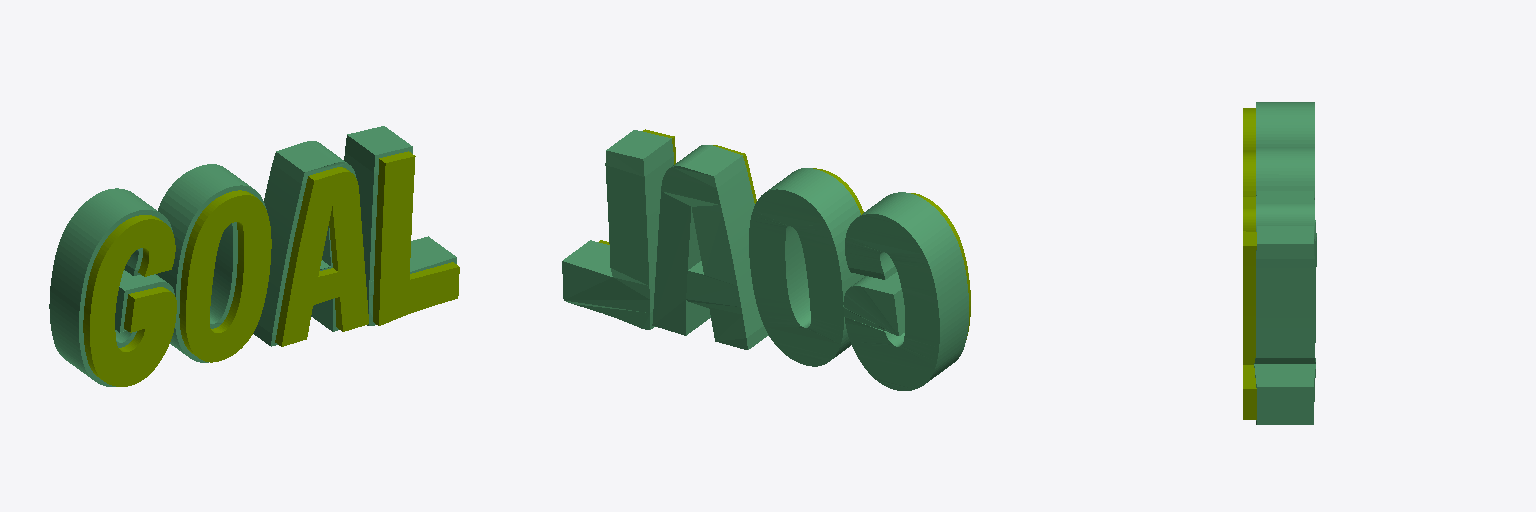
File: goal_text.obj
3 views of the same model, side by side, from view 1: azimuth 30°, elevation 25°; view 2: azimuth 150°, elevation 25°; view 3: azimuth 270°, elevation 25° (orthographic).
Parts seen in each view (by area): view 1: Text_CUText; view 2: Text_CUText; view 3: Text_CUText.
Boxes of the visible parts, box(x1,y1,x2,y2) form: Text_CUText: box(49, 126, 459, 386); Text_CUText: box(562, 129, 970, 390); Text_CUText: box(1243, 102, 1316, 424).
Size of the model in its own units: 1.98 by 0.869 by 0.334.